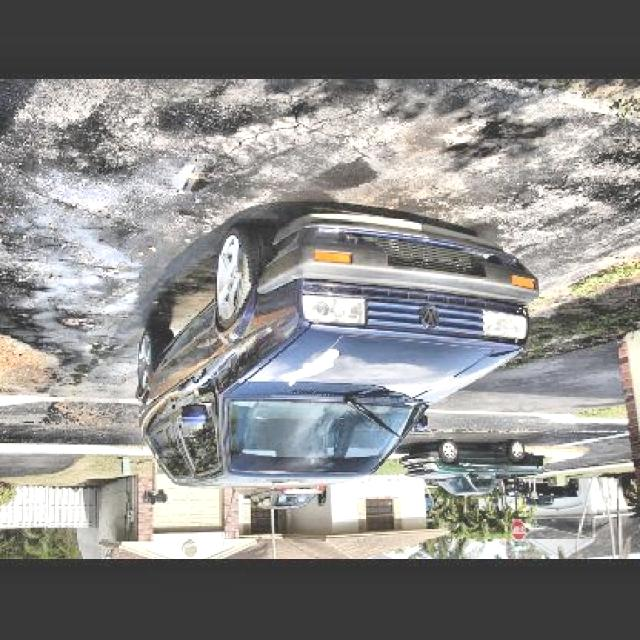black: (144, 214, 527, 478)
